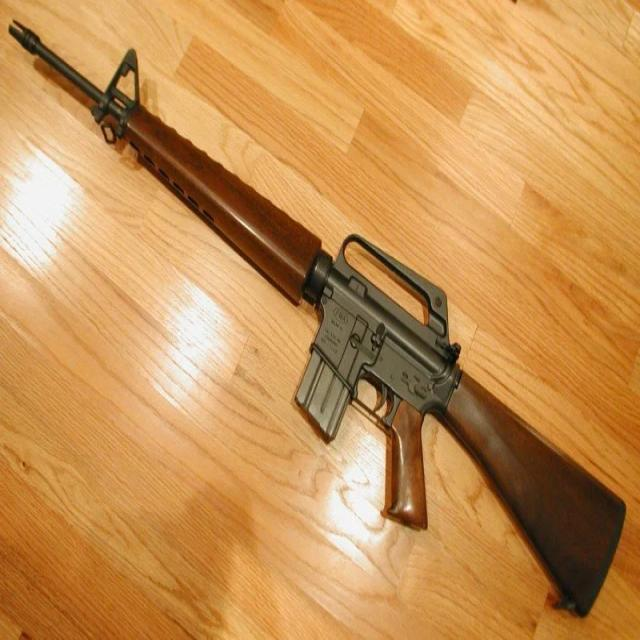weapon: (9, 16, 627, 618)
